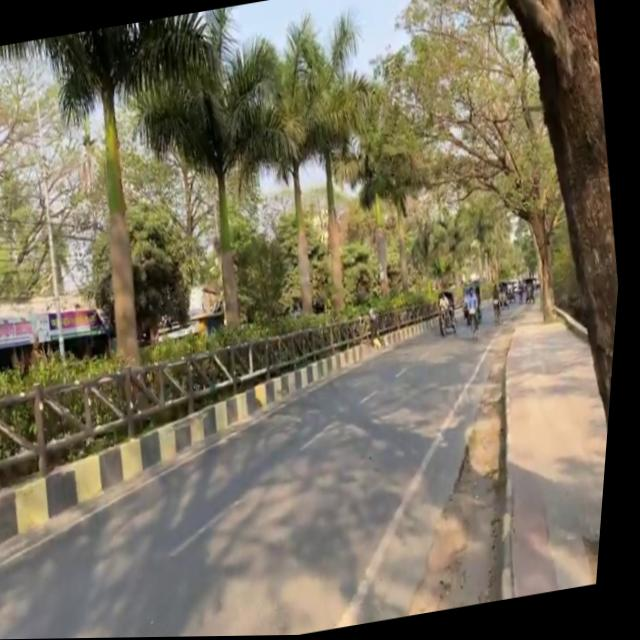Construction-barrier: (466, 327, 562, 602), (553, 299, 597, 347)
Fallen-tree: (439, 305, 464, 339)
Pole: (0, 262, 482, 572)
Pothole: (471, 285, 623, 600)
Traffic-cone: (152, 282, 235, 347)
